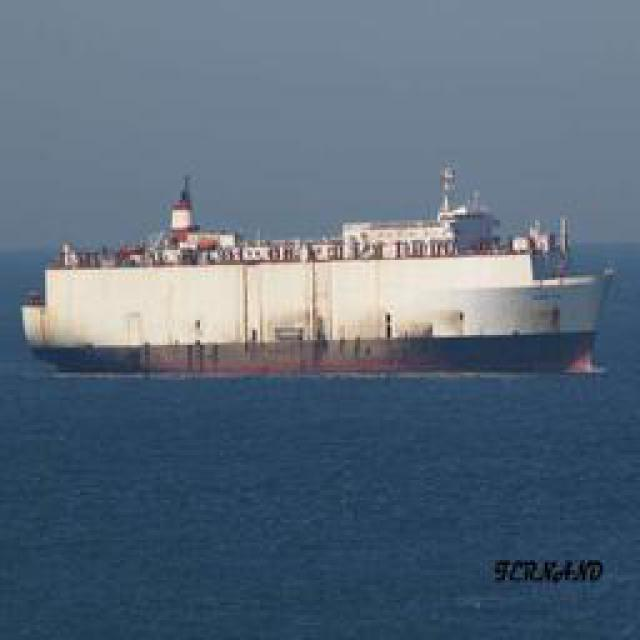Ship: (35, 155, 623, 378)
